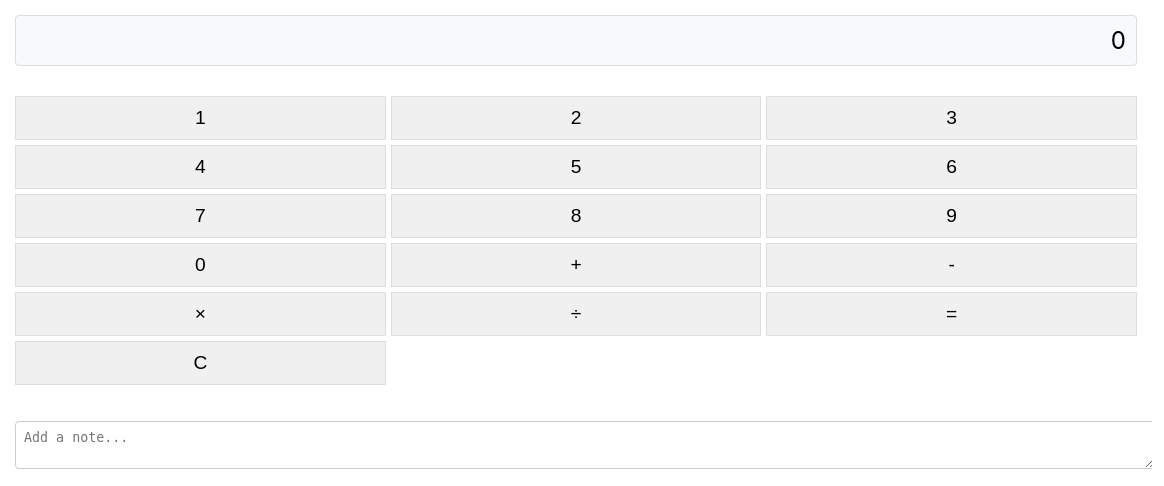
Test: BasicCalculator Component › performs multiplication correctly
What coordinates should you click on to do the following:
click the button "4"
I would click on:
 (200, 167)
Its box is [15,145,386,189].
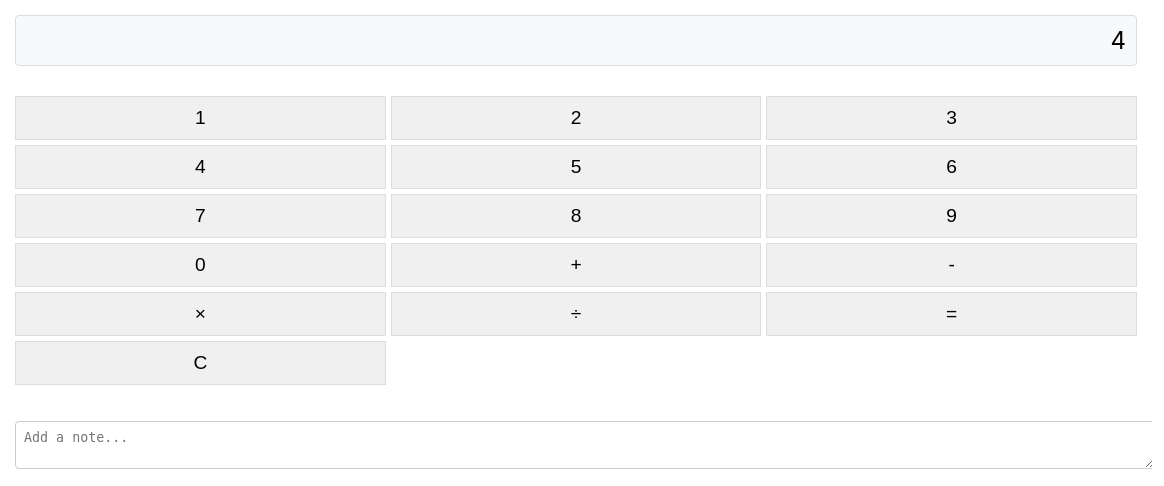
What coordinates should you click on to do the following:
click the button "×"
I would click on:
 (200, 314)
Its box is [15,292,386,336].
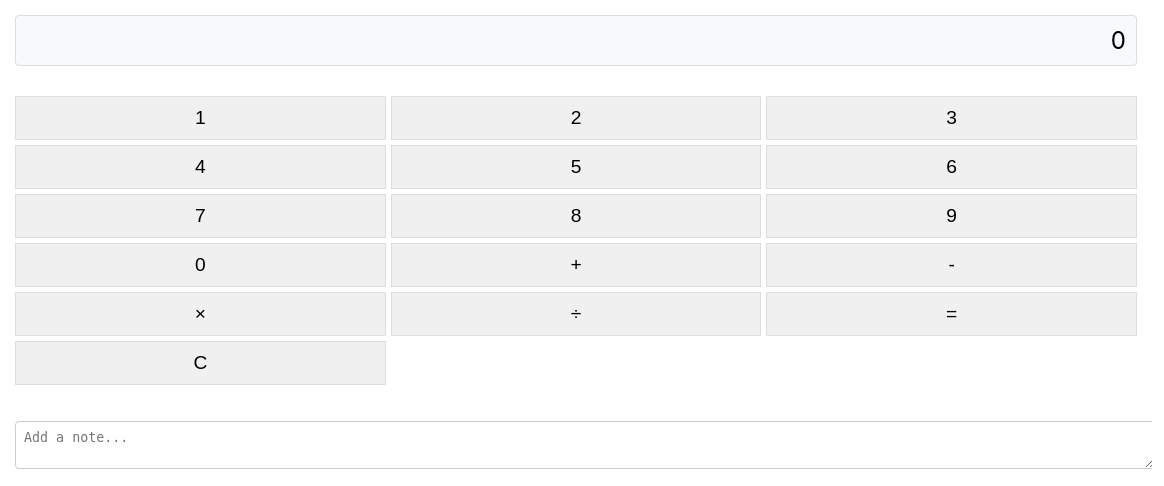
What coordinates should you click on to do the following:
click the button "3"
I would click on:
 (952, 118)
Its box is [766,96,1137,140].
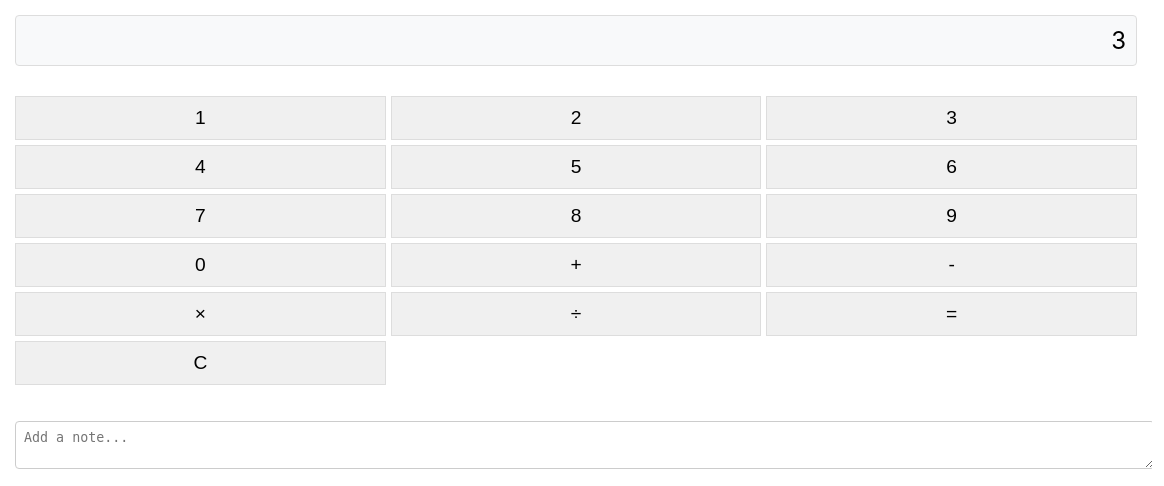
What coordinates should you click on to do the following:
click the button "="
I would click on:
 (952, 314)
Its box is [766,292,1137,336].
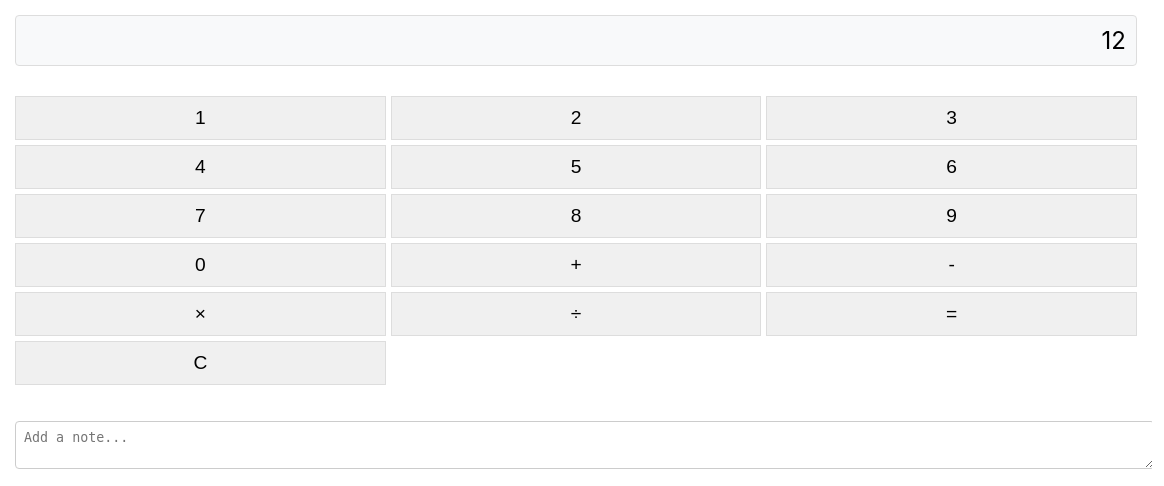
Now the text "12" is shown, box [15,15,1137,66]
